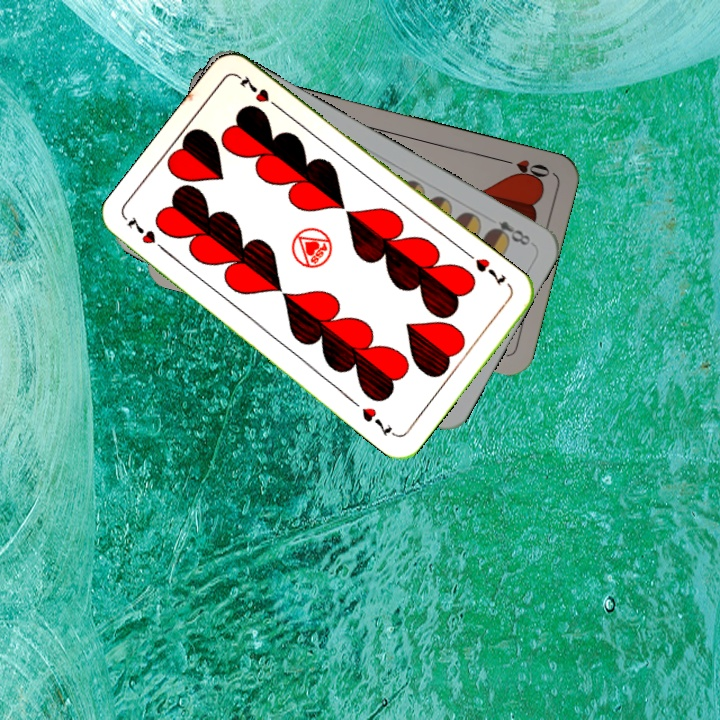E8: (485, 216, 536, 249)
H7: (122, 213, 171, 257), (471, 254, 509, 289)
HO: (496, 154, 553, 184)
